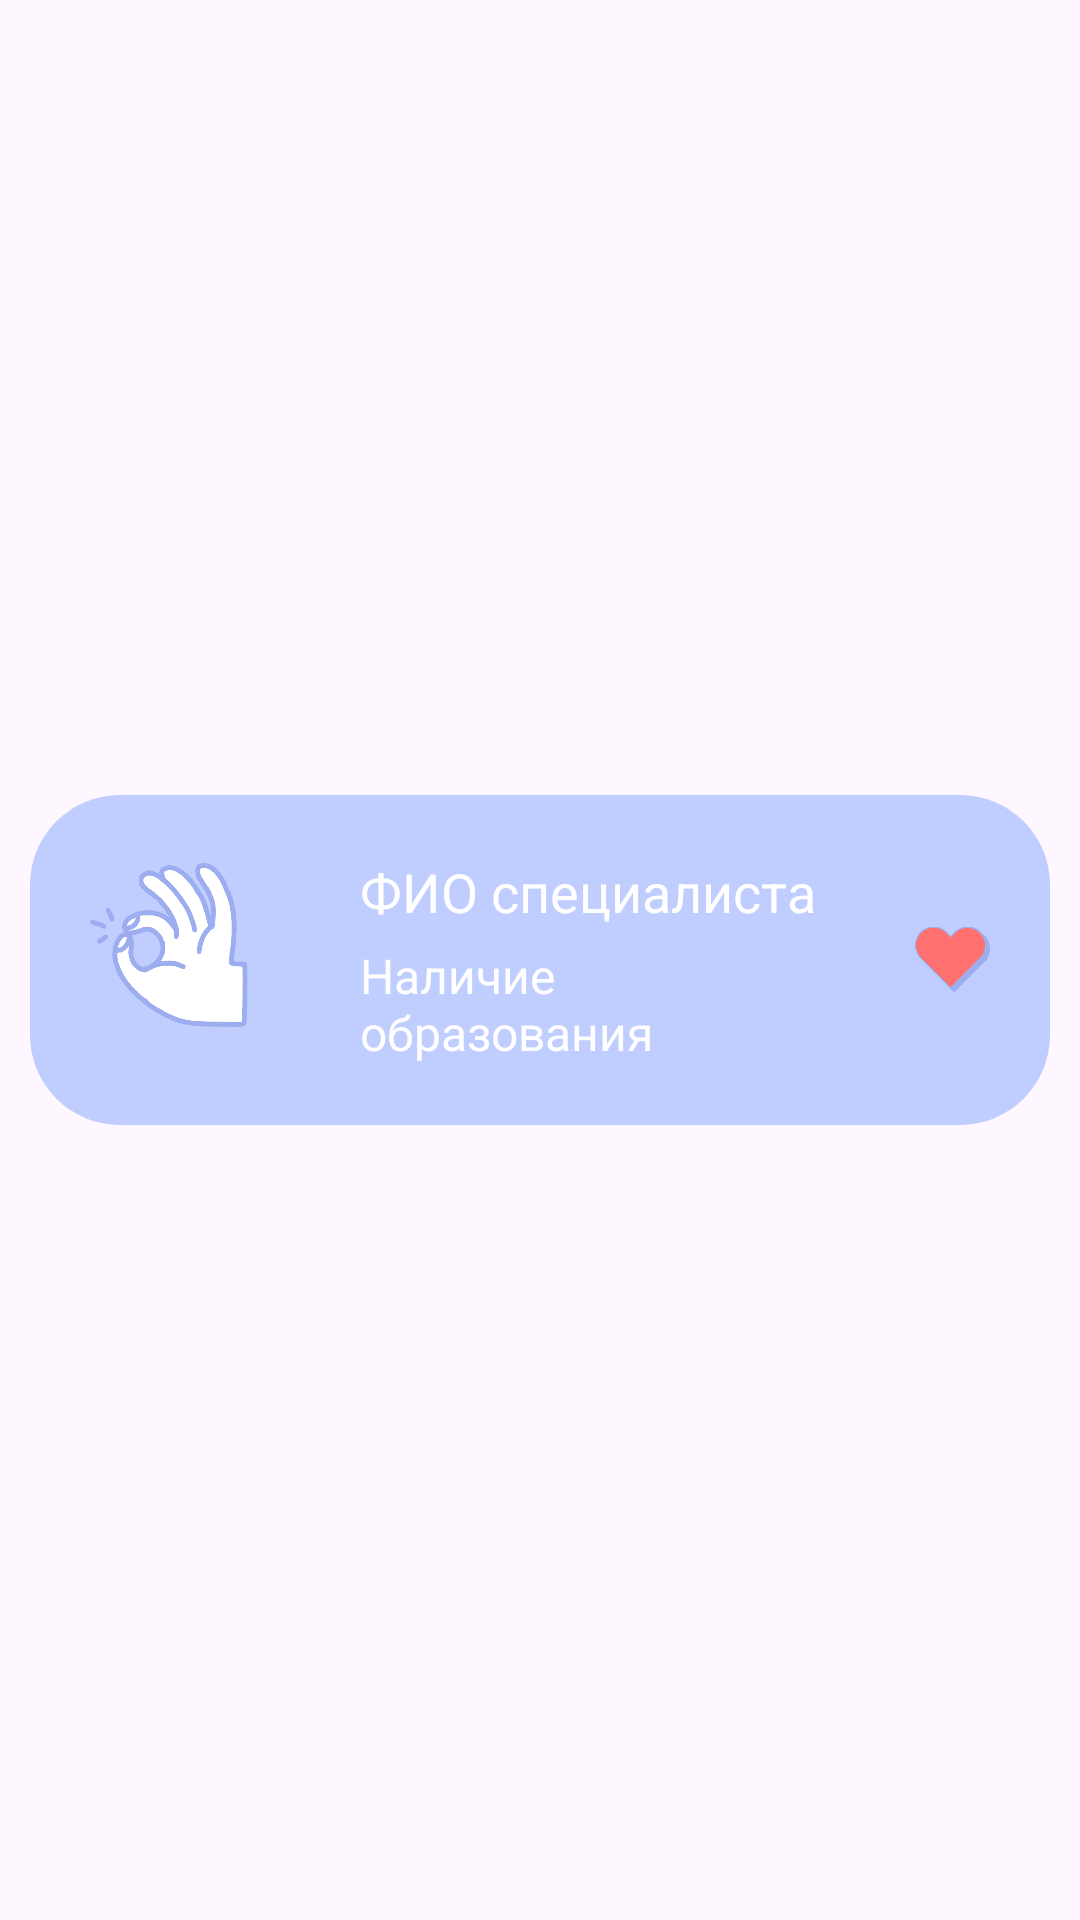

Named icons in this screenshot (1080w x 1920h) and their centers, (x,y):
liked: (952,959)
